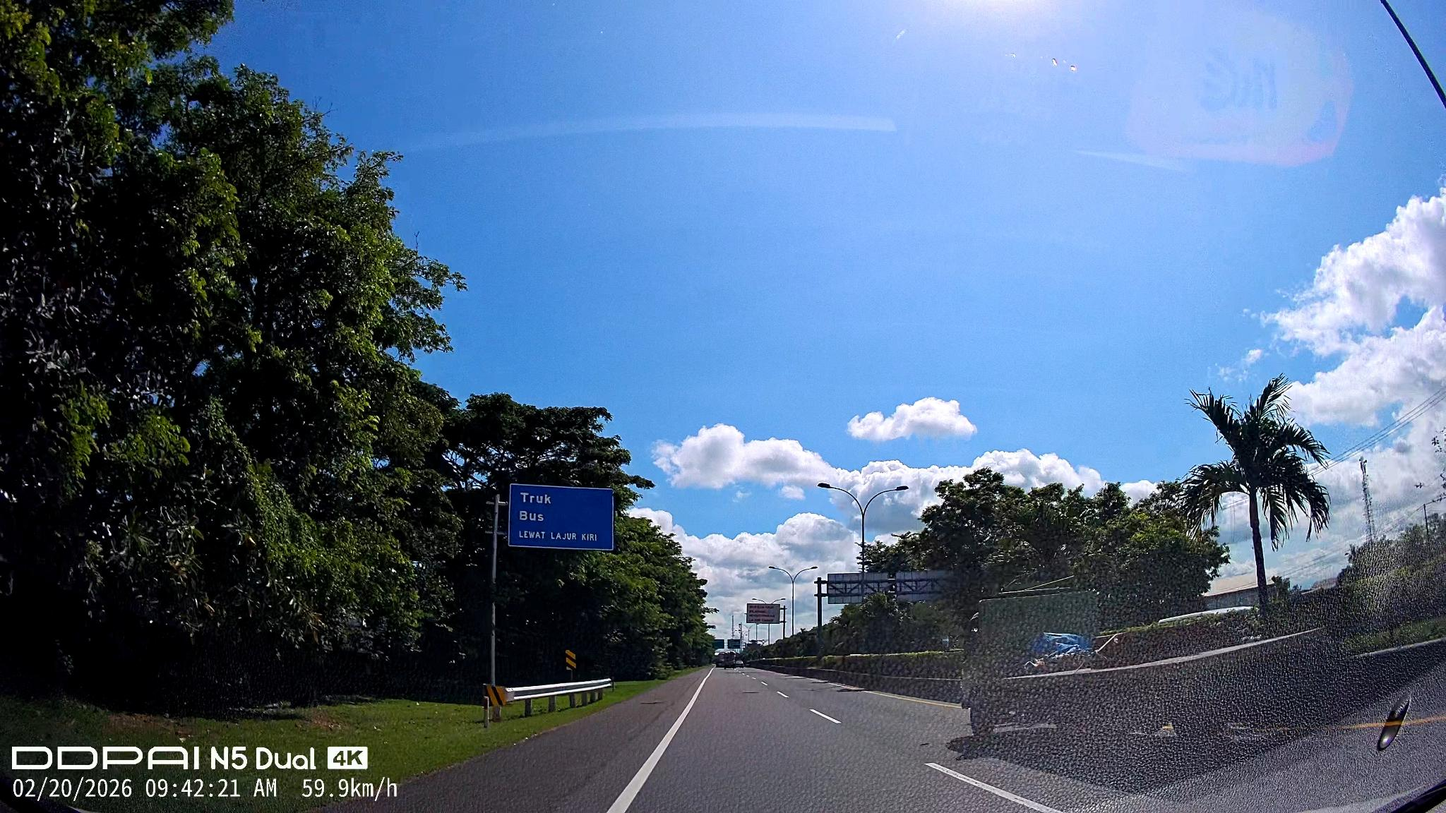rambu_teks: (507, 483, 615, 551)
